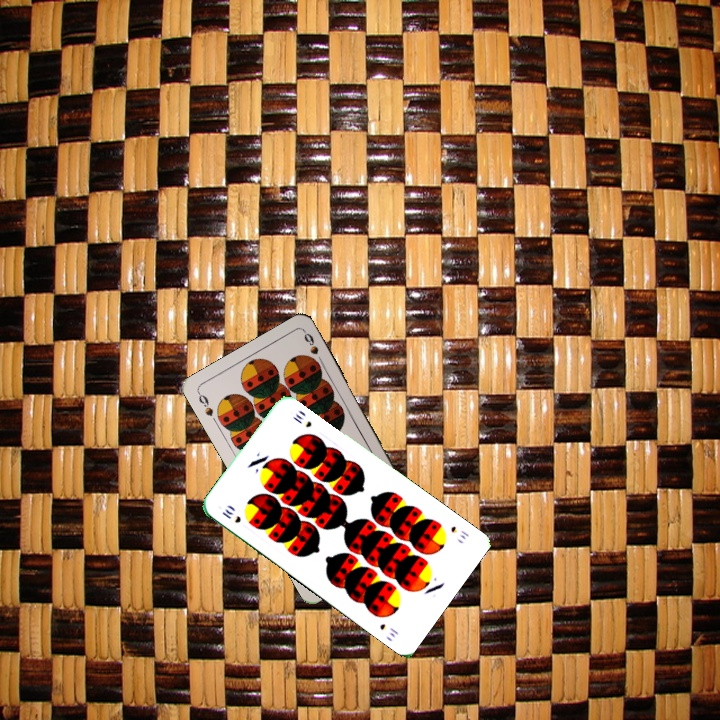S10: (218, 505, 244, 526), (447, 522, 472, 542)
S9: (193, 388, 216, 419)
